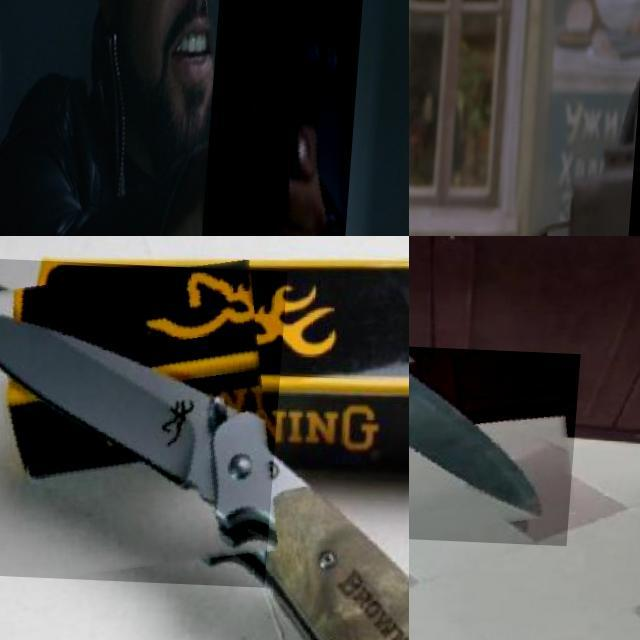-: (0, 258, 288, 585), (409, 340, 584, 541)
gun-knife-thesis - v11 Yolov5 augmented: (204, 0, 368, 236), (409, 27, 479, 236)
